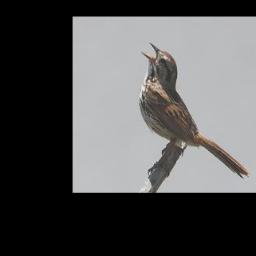Sparrow: (140, 41, 250, 180)
